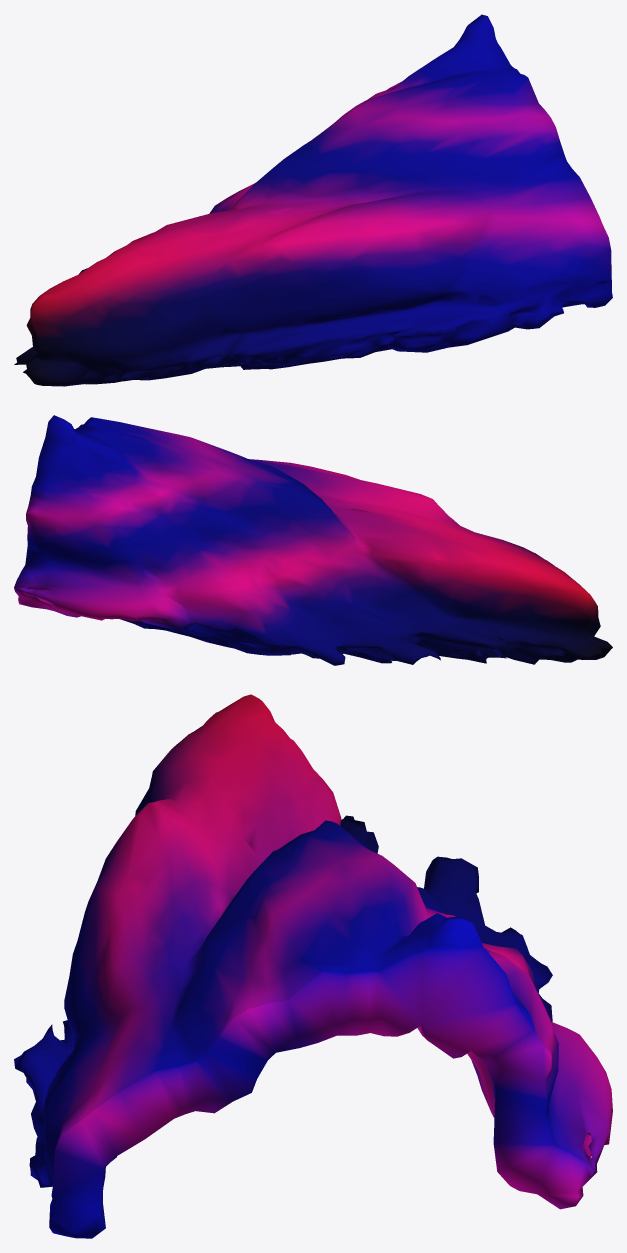
File: copper_vein-u4-cold-lod0.gltf
3 views of the same model, one above another, from view 1: azimuth 30°, elevation 25°; view 2: azimuth 150°, elevation 25°; view 3: azimuth 270°, elevation 25° (orthographic). The views are drawn at different scales.
Parts seen in each view (by area): view 1: copper_vein-u4-cold-lod0; view 2: copper_vein-u4-cold-lod0; view 3: copper_vein-u4-cold-lod0.
Part boxes in pixels (left/top/right/bottom): copper_vein-u4-cold-lod0: left=14, top=14, right=612, bottom=386; copper_vein-u4-cold-lod0: left=14, top=415, right=612, bottom=665; copper_vein-u4-cold-lod0: left=14, top=694, right=612, bottom=1238.
Bounding box in the file's own units: 1.24 × 0.4371 × 0.7429.
